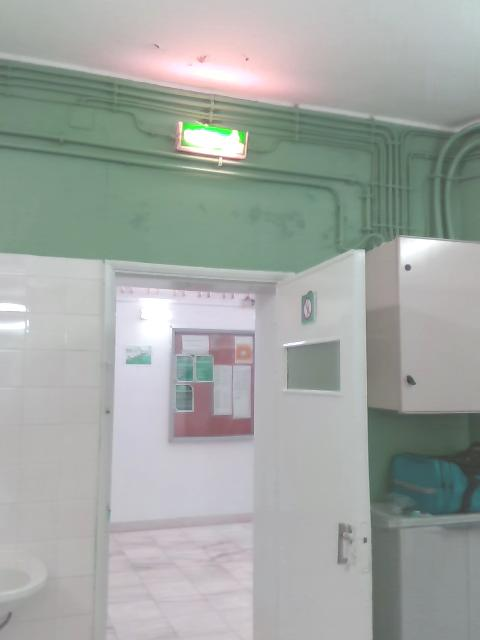open_door: (94, 260, 304, 639)
